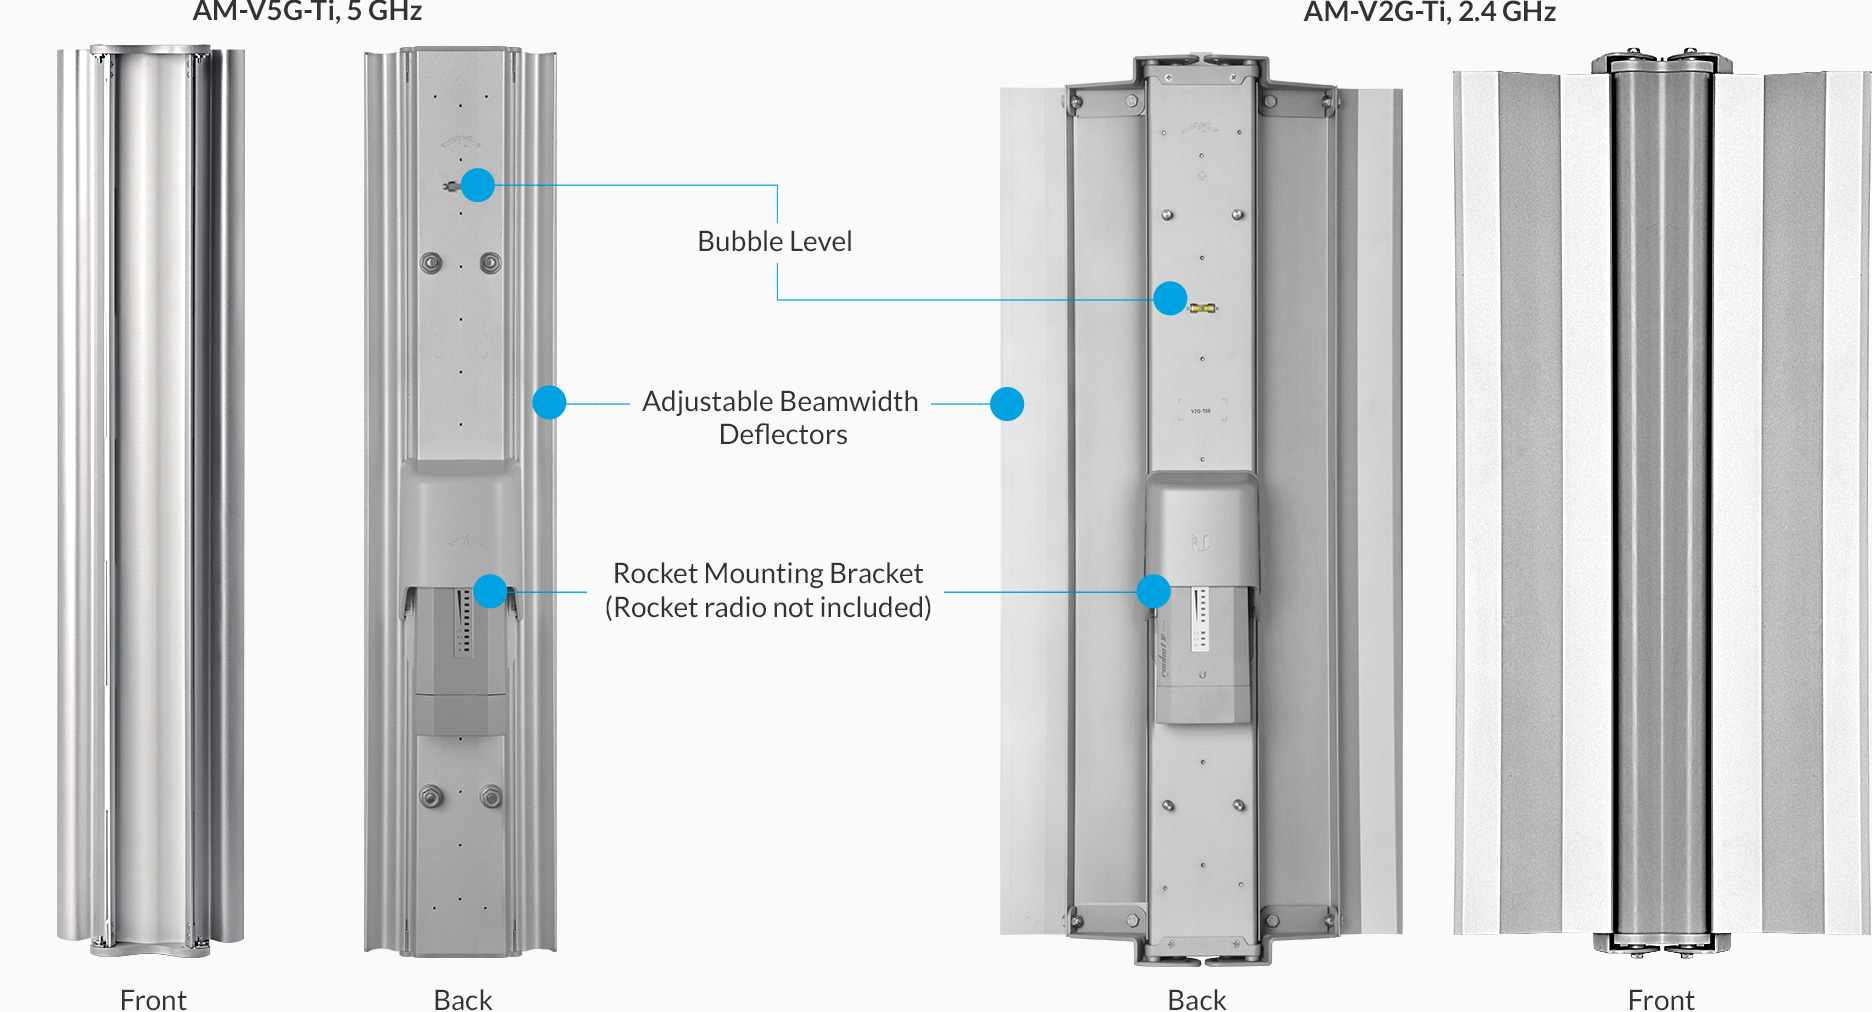sa: (976, 41, 1413, 990), (1453, 29, 1841, 953), (337, 30, 580, 981), (39, 22, 269, 973)
